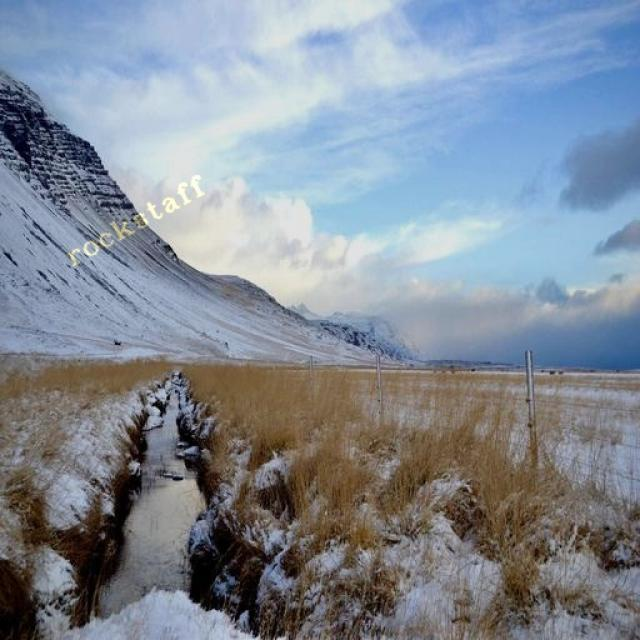watermark: (63, 169, 208, 271)
